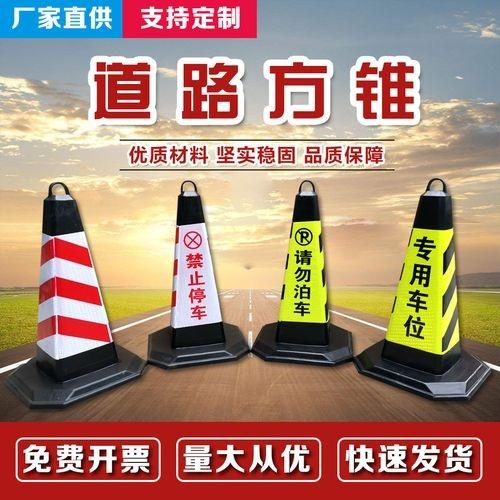cone_barrel: (372, 177, 484, 384), (25, 185, 136, 389), (154, 179, 235, 366), (261, 181, 342, 360)
